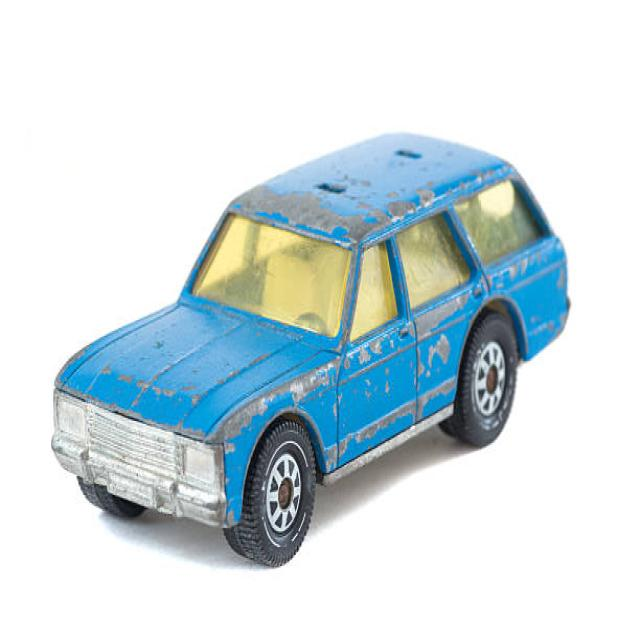Car: (50, 130, 571, 568)
